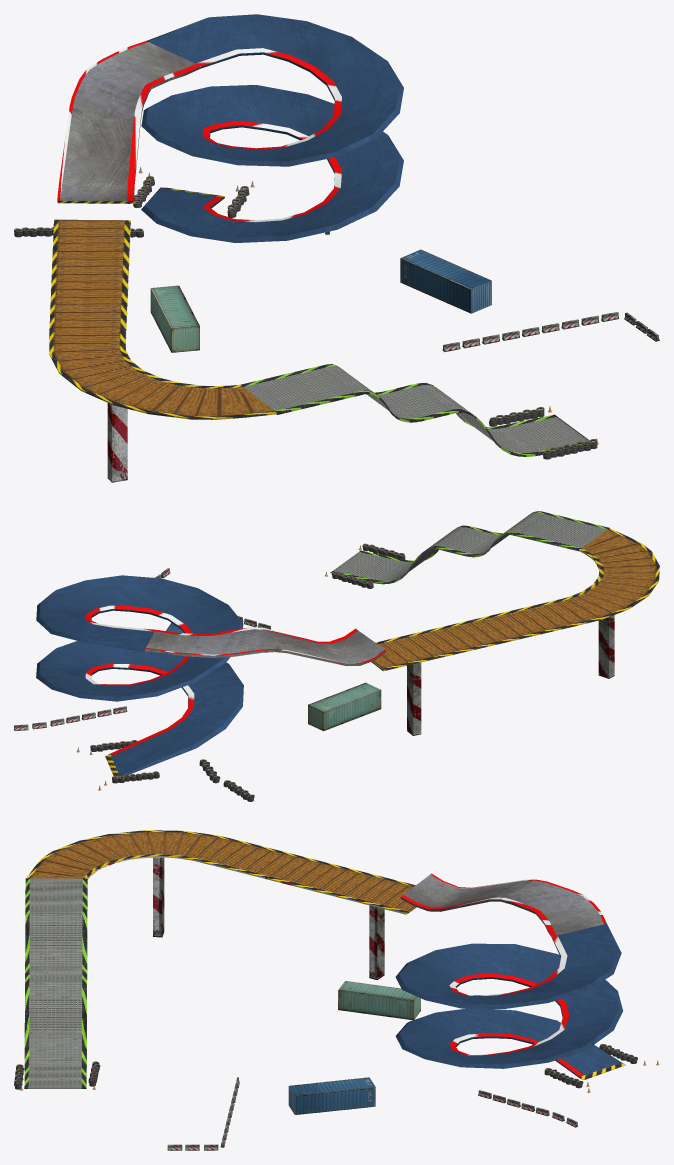
3 views of the same model, one above another, from view 1: azimuth 30°, elevation 25°; view 2: azimuth 150°, elevation 25°; view 3: azimuth 270°, elevation 25° (orthographic). The views are drawn at different scales.
Visible parts, largest first — view 1: Level_M; view 2: Level_M; view 3: Level_M.
Part boxes in pixels (<box>): Level_M: <box>14,14,659,482</box>; Level_M: <box>14,511,659,801</box>; Level_M: <box>14,830,659,1150</box>.
Bounding box in the file's own units: 7846 × 2070 × 9131.
